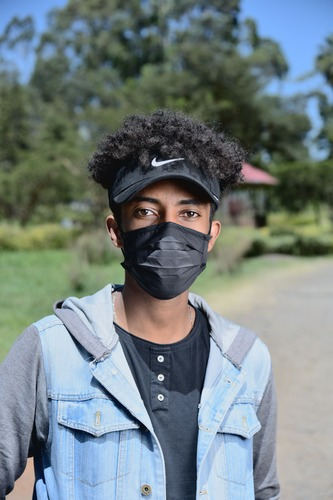with_mask: (116, 189, 210, 292)
